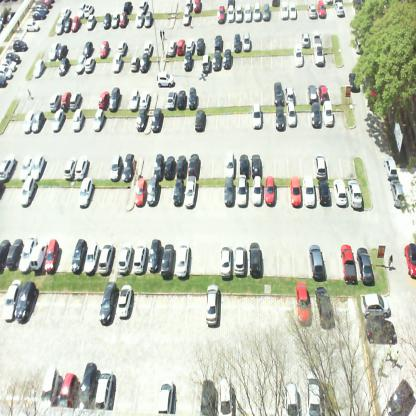car: (382, 378, 412, 415), (14, 280, 37, 322), (364, 316, 396, 346), (39, 363, 60, 407), (2, 276, 21, 321), (99, 280, 118, 324), (79, 361, 97, 407), (315, 286, 334, 328), (360, 292, 390, 318), (94, 371, 113, 412), (306, 367, 322, 415), (156, 378, 176, 416), (357, 245, 375, 287), (57, 371, 78, 407), (18, 234, 37, 273), (295, 280, 311, 324), (308, 243, 326, 280), (340, 242, 356, 283), (84, 238, 101, 274), (97, 238, 113, 275), (206, 283, 220, 325), (201, 380, 217, 416), (117, 283, 133, 319), (70, 237, 86, 273), (218, 378, 233, 416), (175, 243, 191, 278), (389, 178, 406, 210), (284, 381, 300, 415), (117, 239, 133, 273), (6, 238, 23, 270), (347, 178, 363, 211), (31, 240, 48, 271), (44, 238, 59, 273), (404, 238, 416, 279), (161, 243, 175, 278), (20, 177, 36, 207), (148, 236, 161, 272), (303, 172, 316, 208), (220, 242, 232, 280), (0, 154, 16, 182), (249, 239, 261, 276), (333, 178, 348, 207), (109, 152, 124, 181), (184, 173, 196, 209), (122, 151, 136, 181), (317, 178, 332, 206), (79, 175, 92, 207), (134, 174, 147, 206), (51, 107, 67, 133), (134, 240, 146, 274), (234, 239, 245, 276), (236, 173, 248, 206), (63, 154, 78, 180), (382, 153, 398, 177), (223, 174, 235, 206), (156, 68, 175, 88), (75, 153, 89, 180), (314, 150, 327, 178), (108, 84, 121, 112), (92, 108, 106, 134), (290, 173, 301, 206), (147, 175, 159, 205), (31, 153, 44, 179), (72, 106, 85, 132), (274, 104, 286, 132), (20, 152, 33, 177), (22, 109, 35, 134), (151, 105, 163, 132), (0, 236, 10, 268), (153, 150, 164, 179), (251, 101, 262, 130), (32, 57, 47, 78), (187, 151, 200, 175), (322, 102, 334, 128), (265, 175, 275, 206), (173, 177, 184, 205), (252, 178, 262, 208), (31, 110, 44, 133), (164, 155, 176, 179), (272, 80, 284, 104), (129, 87, 141, 111), (176, 152, 187, 178), (224, 150, 235, 176), (311, 102, 322, 128), (70, 88, 84, 108), (251, 152, 263, 175), (98, 89, 111, 110), (286, 101, 296, 128), (195, 109, 207, 131), (136, 107, 147, 131), (48, 38, 60, 60), (139, 90, 152, 110), (59, 56, 72, 76), (140, 51, 151, 74), (75, 53, 87, 74), (188, 85, 198, 110), (53, 16, 66, 35), (314, 45, 325, 67), (49, 92, 62, 110), (244, 0, 254, 23), (284, 84, 296, 103), (240, 151, 249, 176), (25, 20, 41, 34), (0, 59, 17, 72), (176, 89, 186, 111), (280, 2, 290, 24), (176, 36, 187, 56), (57, 42, 69, 60), (318, 80, 328, 101), (226, 2, 236, 23), (113, 53, 123, 74), (307, 83, 318, 102), (129, 53, 140, 72), (82, 40, 95, 56), (31, 8, 47, 21), (166, 89, 176, 109), (61, 90, 71, 110), (252, 2, 262, 22), (212, 50, 222, 70), (196, 35, 206, 55), (167, 38, 177, 58), (307, 2, 318, 20), (201, 52, 210, 74), (85, 56, 96, 74), (0, 65, 14, 79), (13, 39, 28, 52), (142, 39, 154, 55), (302, 29, 312, 48), (100, 40, 110, 59), (294, 46, 303, 67), (312, 29, 322, 47), (289, 1, 298, 21), (182, 8, 191, 28), (144, 10, 154, 28), (102, 13, 112, 31), (118, 11, 128, 29), (6, 51, 21, 63), (335, 1, 346, 17), (235, 0, 243, 22), (242, 30, 250, 52), (233, 32, 241, 54), (223, 49, 231, 71), (184, 51, 192, 73), (134, 10, 144, 27), (262, 2, 270, 23), (318, 0, 326, 20), (214, 33, 222, 53), (217, 5, 226, 22), (77, 0, 86, 17), (87, 13, 96, 30), (38, 0, 55, 9), (71, 16, 81, 31), (110, 12, 120, 27), (118, 39, 127, 55), (185, 38, 195, 52), (193, 0, 202, 15), (35, 4, 50, 13), (60, 6, 71, 18), (0, 75, 8, 90), (64, 18, 72, 32), (84, 2, 92, 16), (124, 1, 133, 12), (185, 0, 193, 11), (139, 0, 147, 9)
